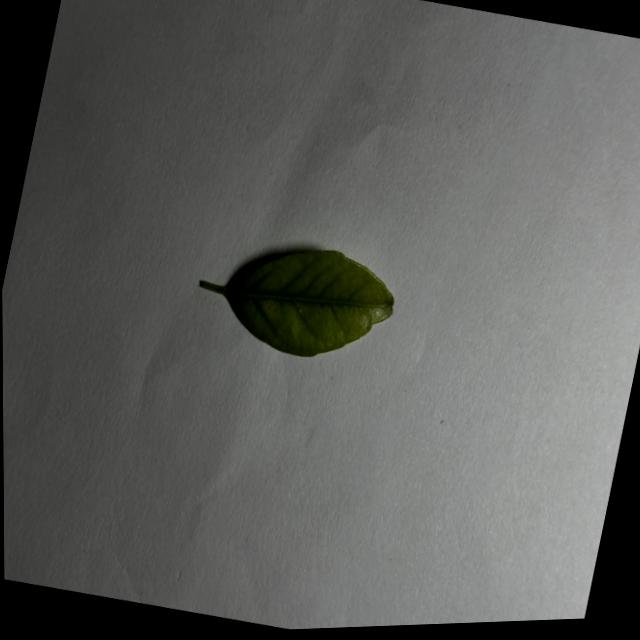greening: (200, 249, 393, 355)
